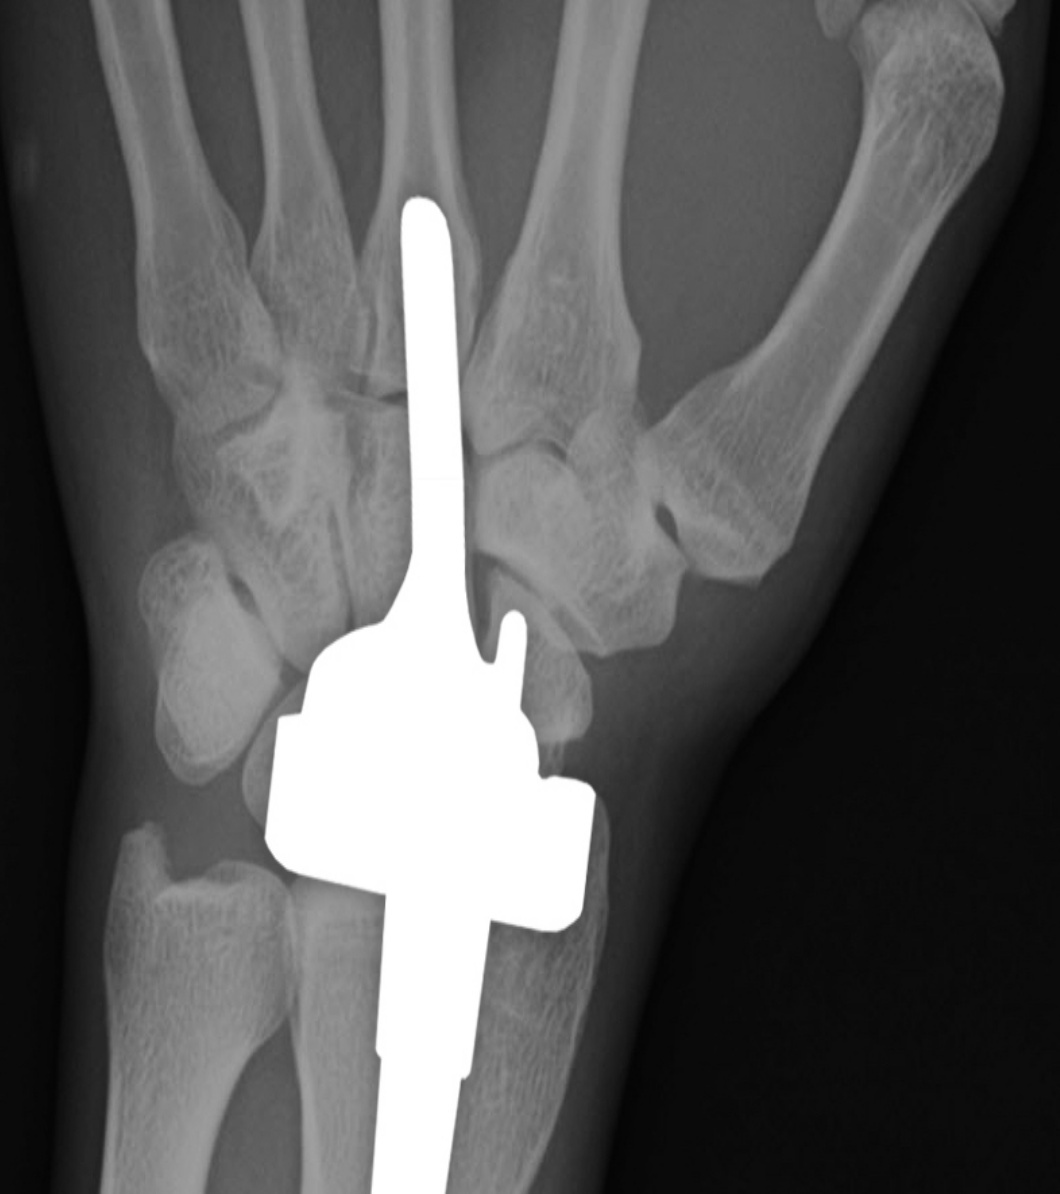Wrist-Biax-DePuuy: (237, 162, 600, 1194)
